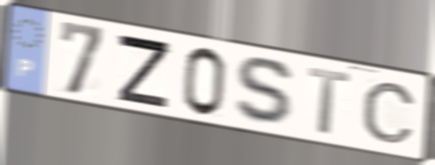0: (181, 45, 229, 116)
7: (58, 18, 106, 100)
C: (360, 80, 419, 145)
S: (232, 55, 300, 129)
T: (306, 66, 353, 138)
Z: (115, 31, 172, 111)
